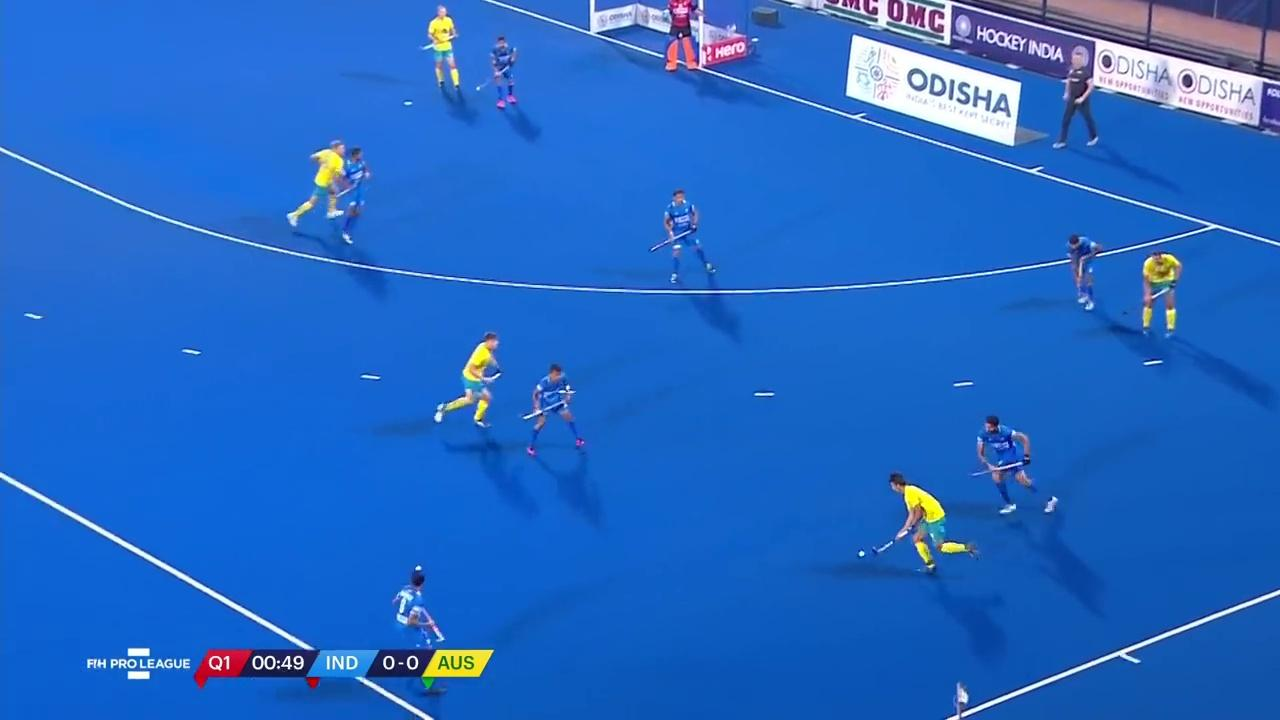ball: (853, 545, 871, 562)
